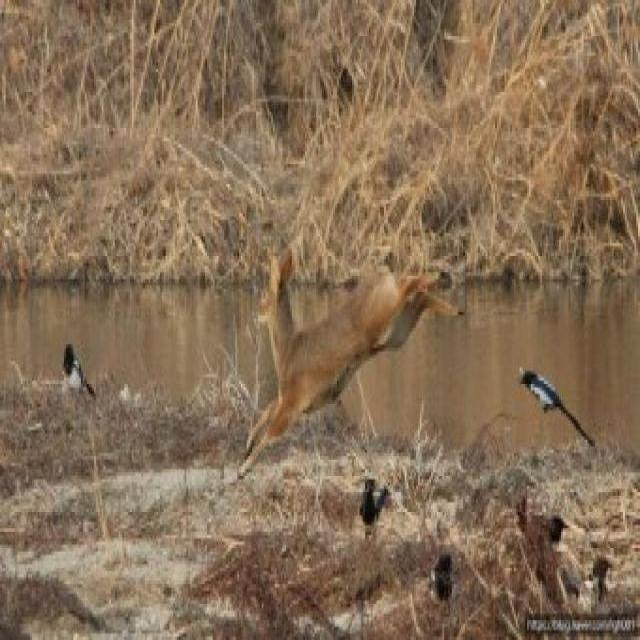deer: (203, 236, 470, 495)
